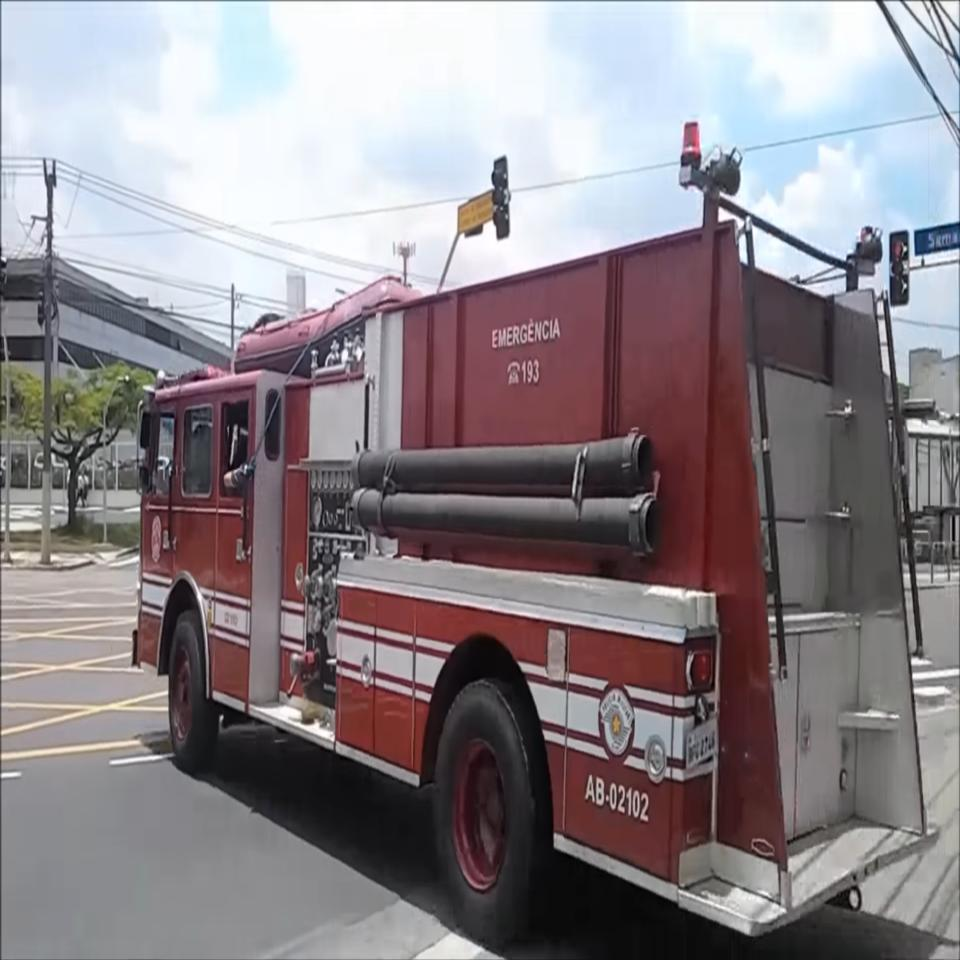viatura: (130, 117, 944, 953)
